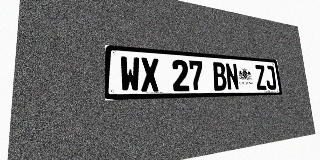2: (172, 59, 189, 91)
7: (188, 60, 204, 91)
B: (212, 62, 227, 91)
J: (264, 65, 277, 90)
N: (225, 63, 239, 90)
W: (120, 56, 140, 92)
X: (140, 57, 160, 92)
Z: (254, 65, 267, 90)
